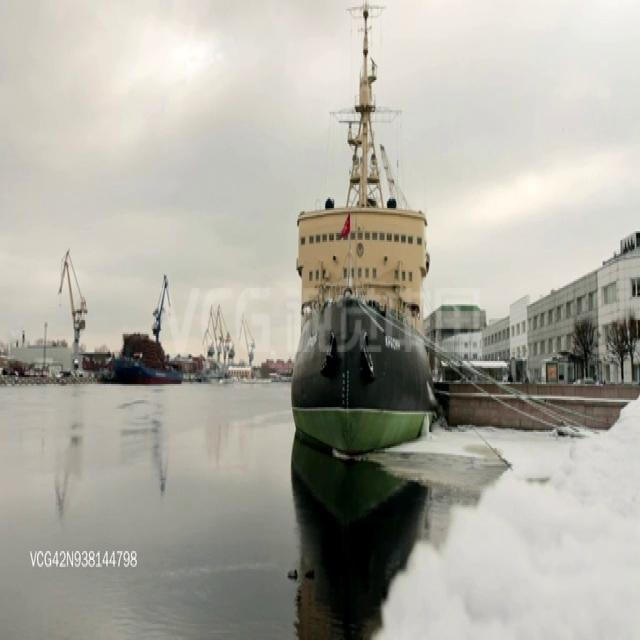navalvessels: (292, 7, 438, 452)
